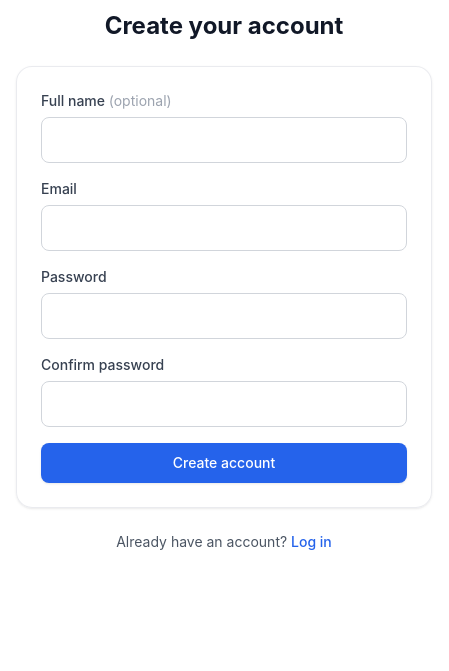
Test: Register password validation › shows a mismatch warning when confirm password differs
The width and height of the screenshot is (449, 671).
Type "Password1" into the password field labelled "Password" at {"x": 224, "y": 316}, box [41,293,407,339]
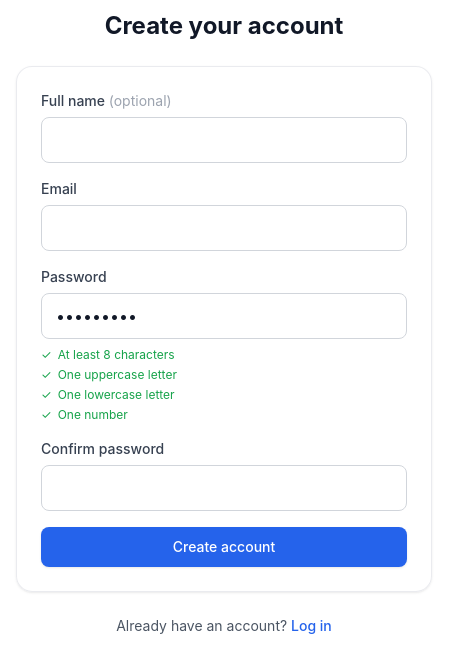
Type "Different1" into the password field labelled "Confirm password" at {"x": 224, "y": 488}, box [41,465,407,511]
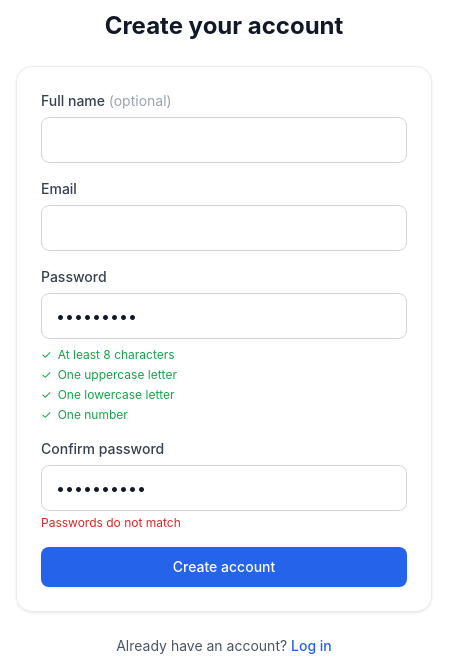
Check: the text "Passwords do not match" is shown, box [41,515,181,530]
